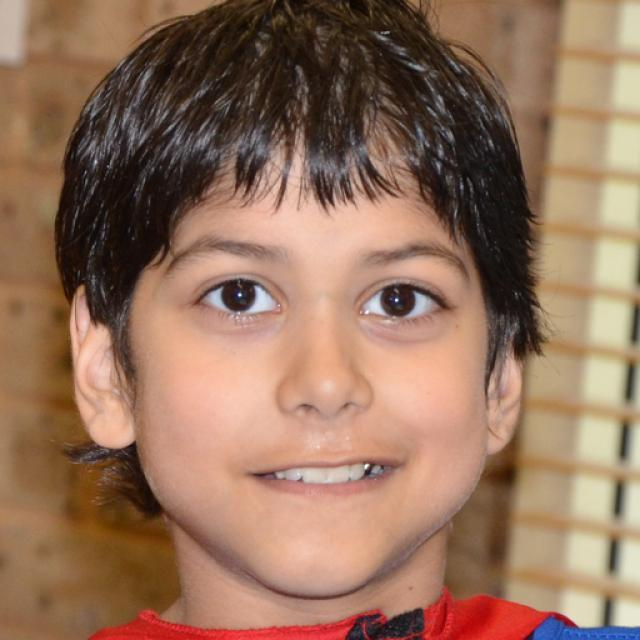happy: (129, 128, 490, 596)
